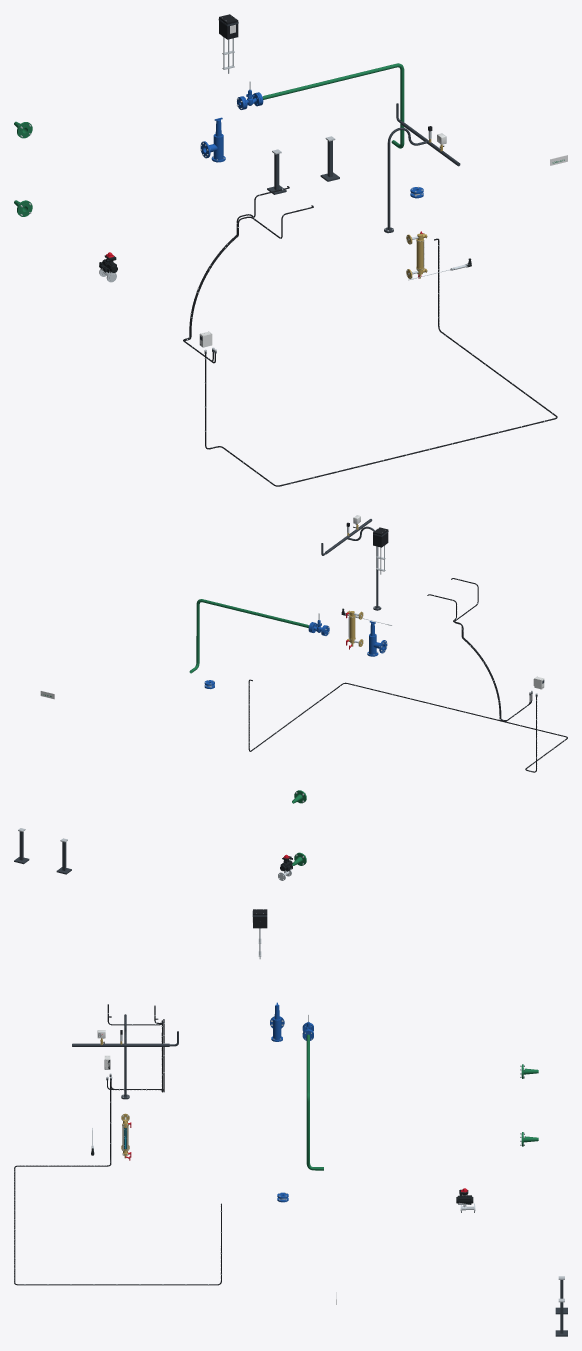
3 renders of one model, top to bottom at view 1: azimuth 30°, elevation 25°; view 2: azimuth 150°, elevation 25°; view 3: azimuth 270°, elevation 25°, orthographic. The views are drawn at different scales.
Visible parts, largest first — view 1: wiring_pump_1 / black, to_direct / green, pressure_header / dark, trap_support / dark, safety_1 / blue; view 2: wiring_pump_1 / black, to_direct / green, pressure_header / dark; view 3: wiring_pump_1 / black, pressure_header / dark, to_direct / green.
Part boxes in pixels (x1,y1,x2,y2): wiring_pump_1 / black: (205, 238, 557, 486); to_direct / green: (262, 63, 404, 148); pressure_header / dark: (384, 103, 460, 232); trap_support / dark: (267, 140, 339, 194); safety_1 / blue: (200, 117, 225, 162); wiring_pump_1 / black: (248, 679, 567, 772); to_direct / green: (189, 599, 308, 673); pressure_header / dark: (321, 519, 381, 610); wiring_pump_1 / black: (14, 1080, 221, 1285); pressure_header / dark: (72, 1014, 178, 1099); to_direct / green: (306, 1034, 323, 1170).
Bounding box in the file's own units: 6.07 × 4.12 × 6.75.
